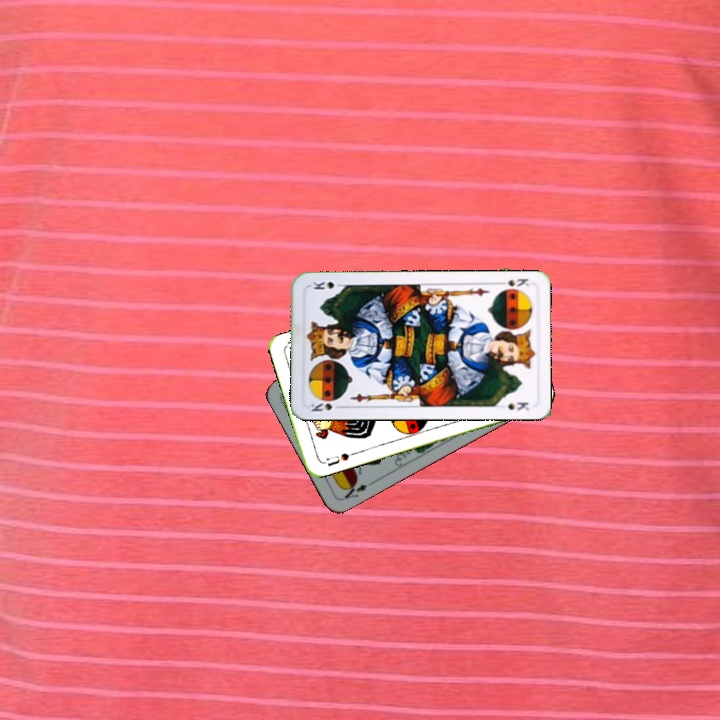EA: (338, 477, 376, 502)
SK: (307, 399, 346, 414), (494, 275, 531, 289)
SU: (322, 448, 358, 469)
